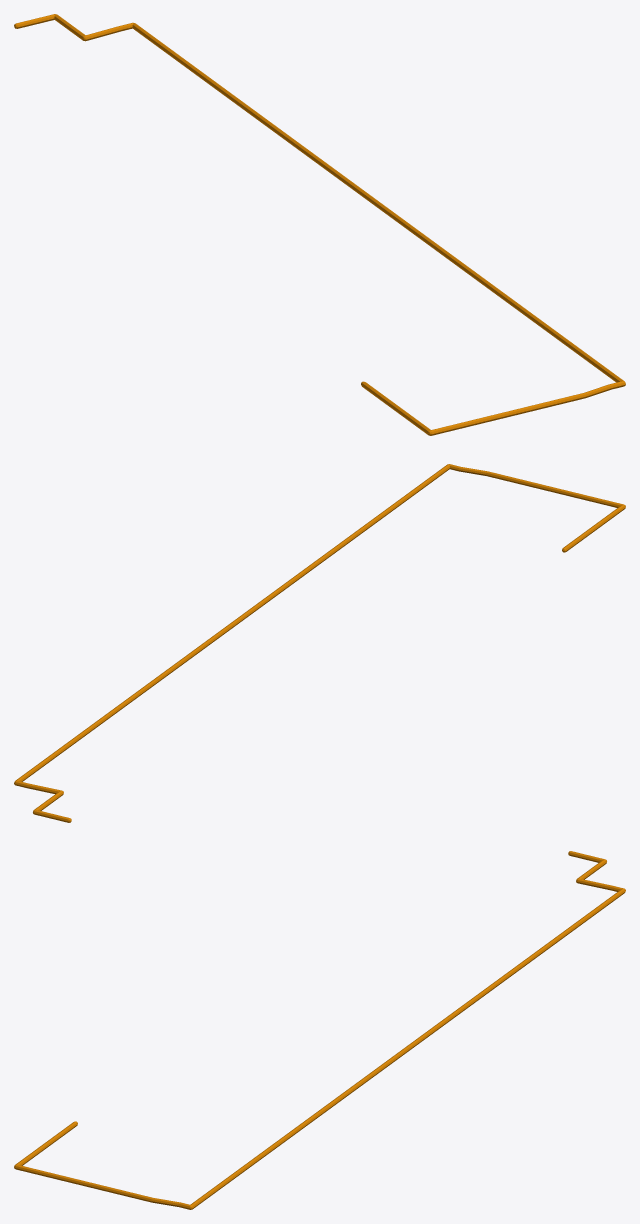
3 renders of one model, top to bottom at view 1: azimuth 30°, elevation 25°; view 2: azimuth 150°, elevation 25°; view 3: azimuth 330°, elevation 25°, orthographic. The views are drawn at different scales.
Size of the model in its own units: 779 by 20 by 3528.
